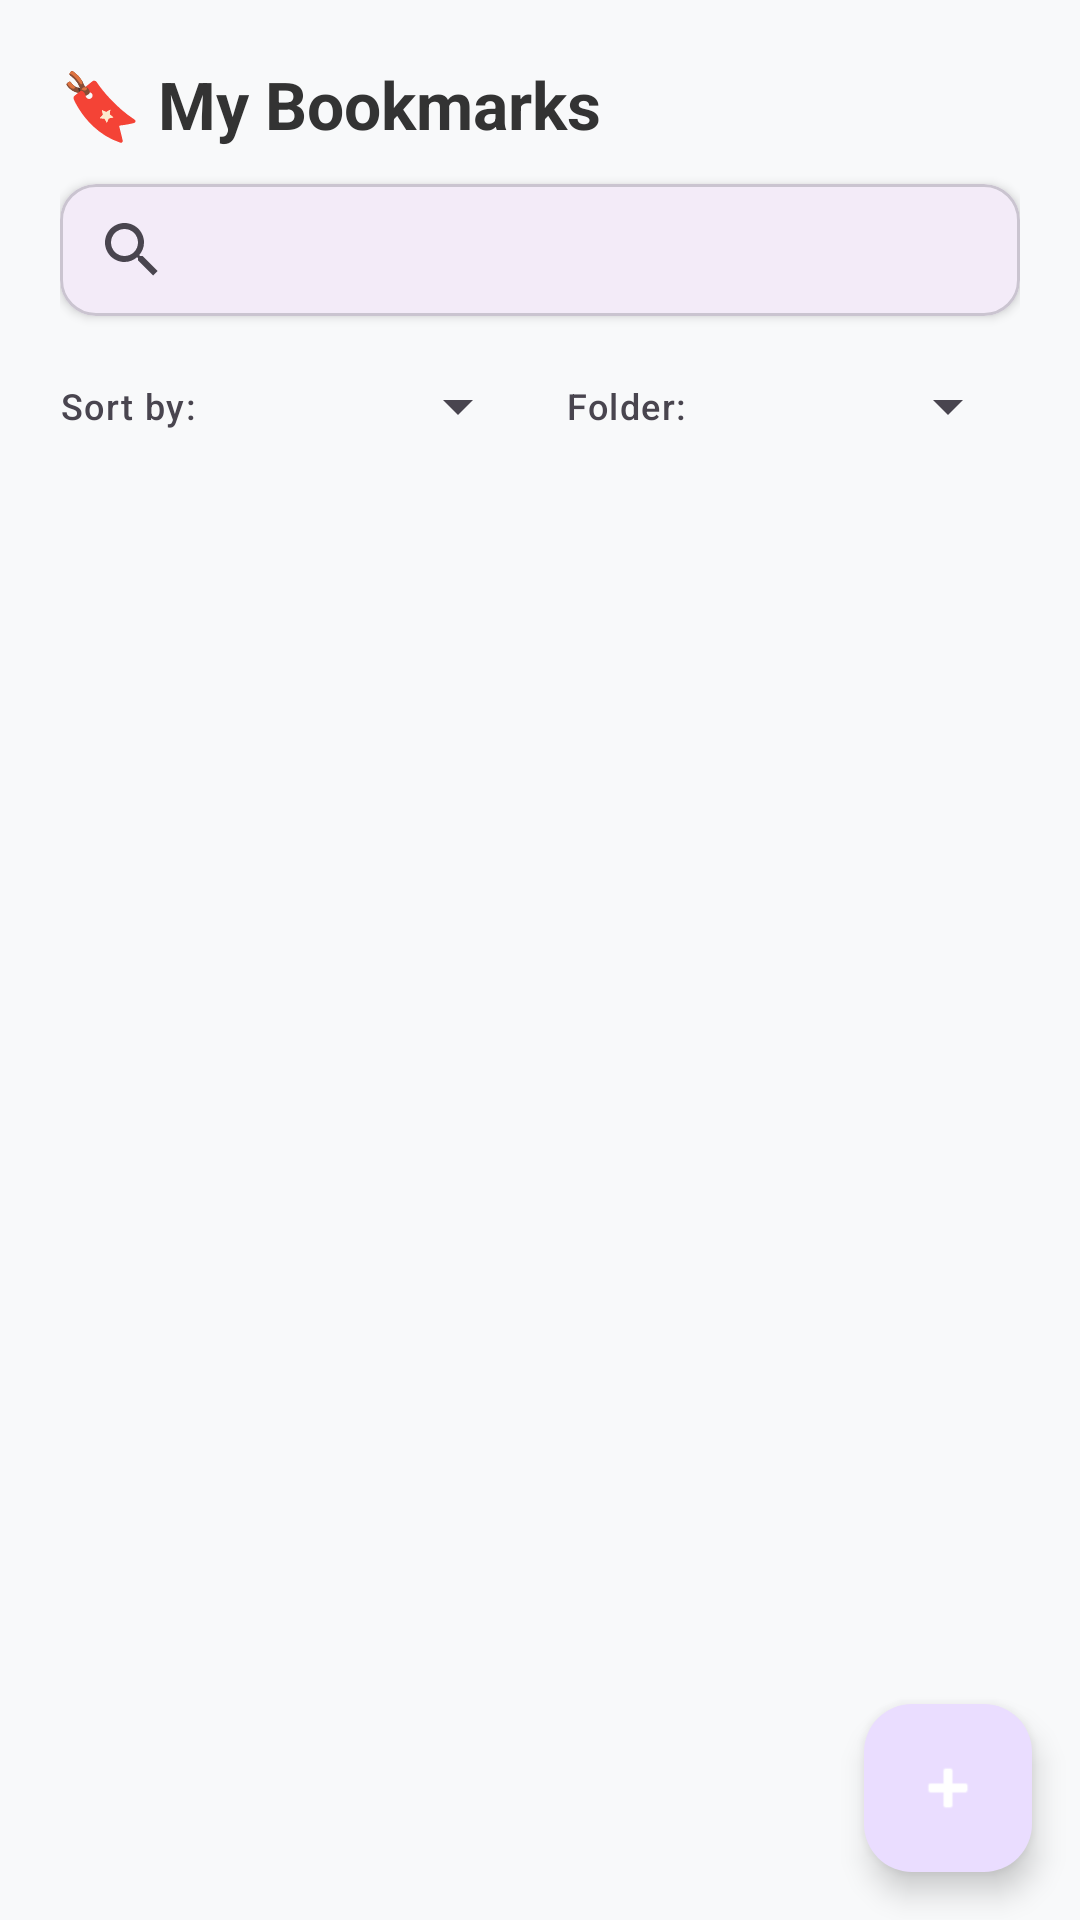

Where to tap for icons on this 1080x1920 app screen, as (x=x, y=y):
Add Bookmark: (x=948, y=1788)
